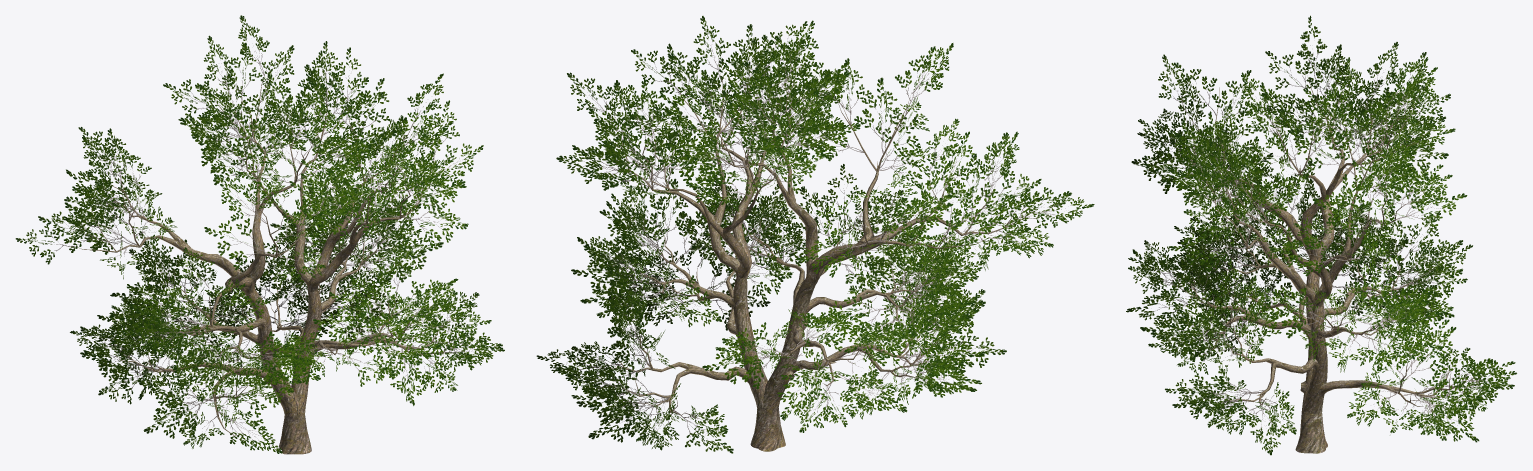
File: oak.fbx
3 views of the same model, side by side, from view 1: azimuth 30°, elevation 25°; view 2: azimuth 150°, elevation 25°; view 3: azimuth 270°, elevation 25° (orthographic). The views are drawn at different scales.
Visible parts, largest first — view 1: oak leaf_1, mossybark02_0; view 2: oak leaf_1, mossybark02_0; view 3: oak leaf_1, mossybark02_0.
Boxes of the visible parts, bbox=[...] form: oak leaf_1: bbox=[15, 15, 504, 453]; mossybark02_0: bbox=[78, 70, 446, 454]; oak leaf_1: bbox=[536, 16, 1094, 453]; mossybark02_0: bbox=[605, 79, 1030, 451]; oak leaf_1: bbox=[1126, 15, 1516, 455]; mossybark02_0: bbox=[1176, 81, 1467, 453].
Bounding box in the file's own units: 1053 × 883 × 820.
2 materials, 2 textured.
